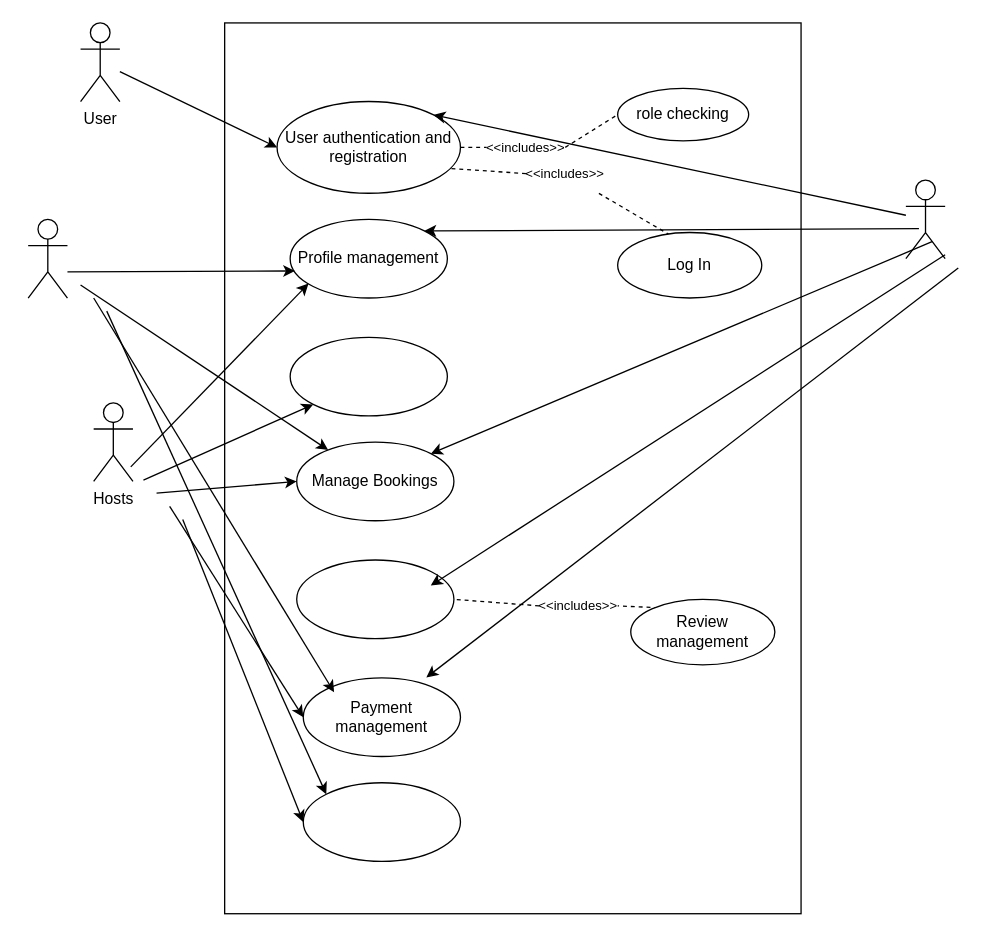
Image size: 992x937. Some labels were removed from this diagram. Each missing label, with the box of its shape:
Admin: (905, 179, 945, 259)
Guests: (27, 218, 67, 298)
Listing management: (289, 336, 447, 416)
notification management: (302, 781, 460, 861)
User management: (295, 559, 454, 639)
